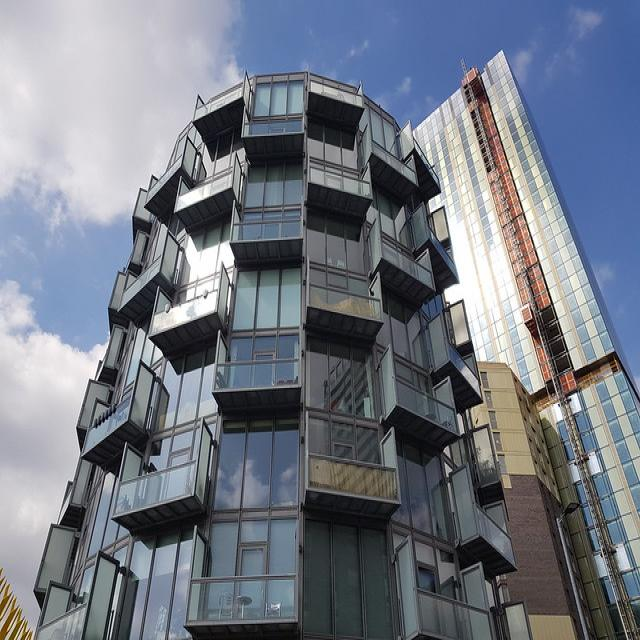Normal_building: (28, 66, 615, 640)
